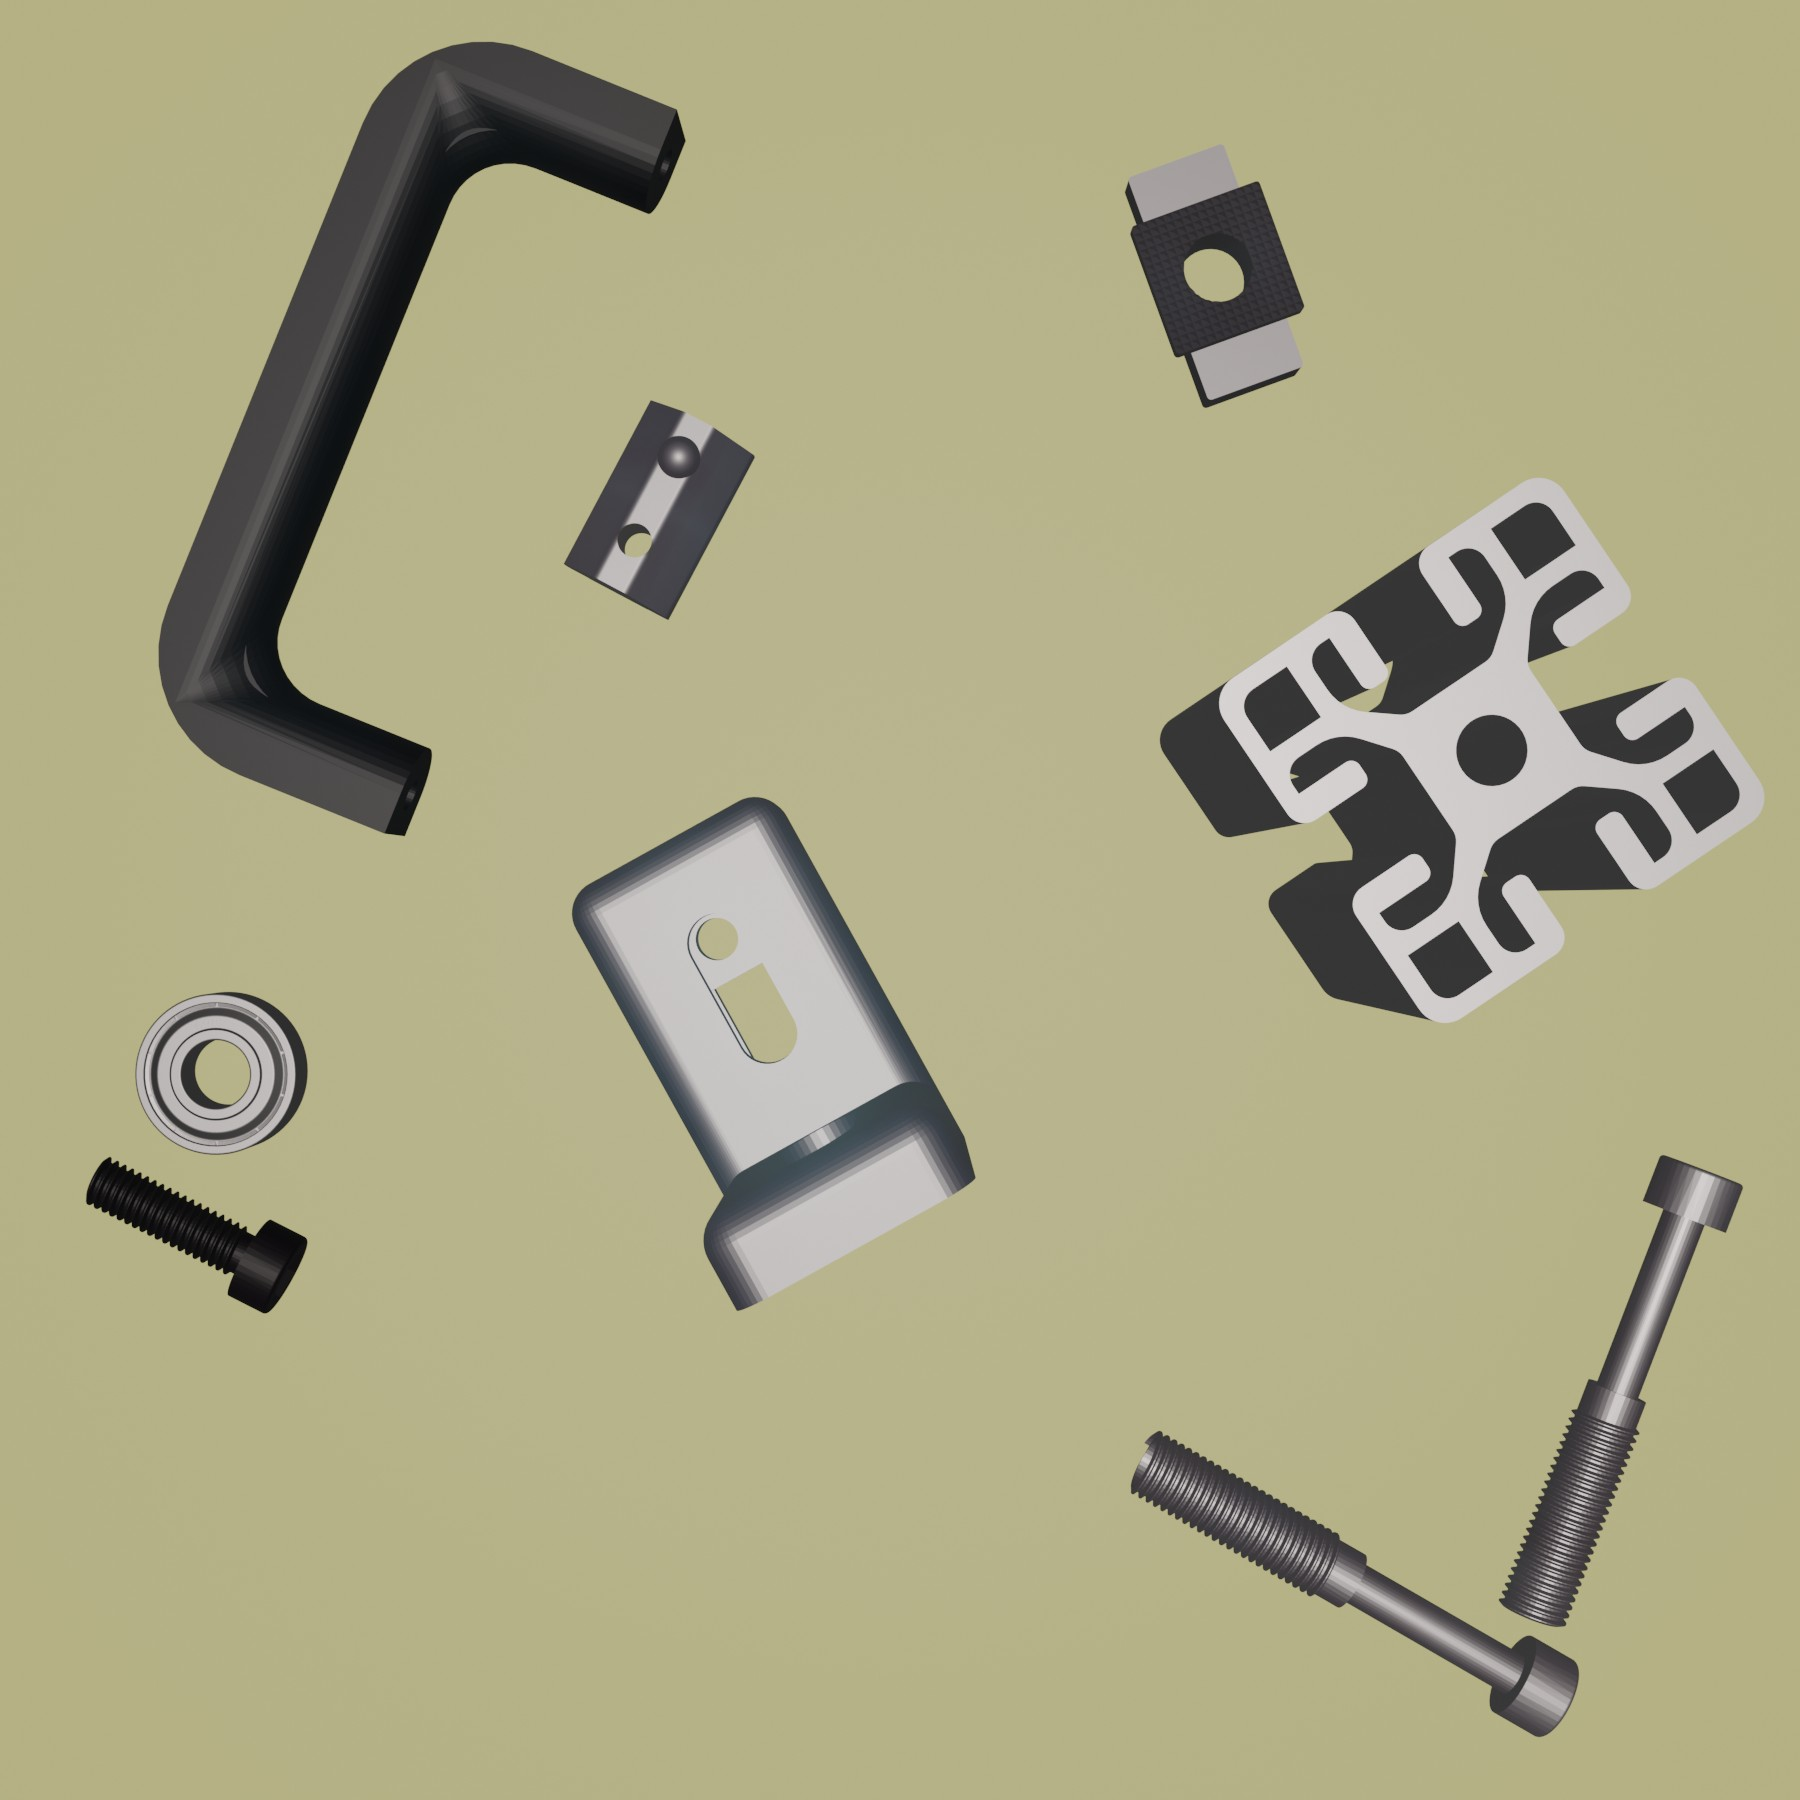Aluminium Extension: (1159, 473, 1770, 1027)
Ball Bearing: (132, 989, 308, 1159)
Multiwinkel: (569, 791, 981, 1315)
Pull Handle: (155, 36, 691, 837)
Shoulder Socket Head Cap Screw: (1124, 1427, 1577, 1742), (1497, 1151, 1747, 1632)
Socket Head Cap Screw: (82, 1154, 308, 1315)
T Nut Square: (1123, 138, 1309, 412)
T Spring Nut: (560, 396, 758, 621)
